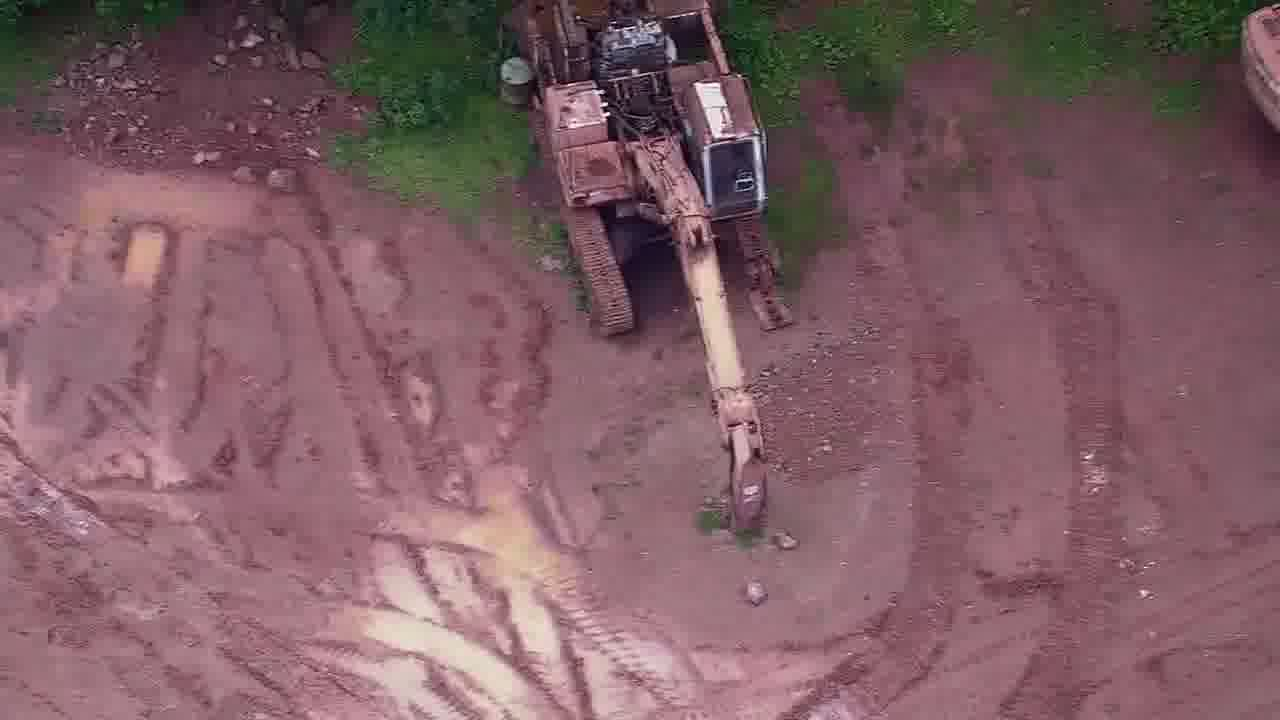HMV: (486, 1, 798, 512)
